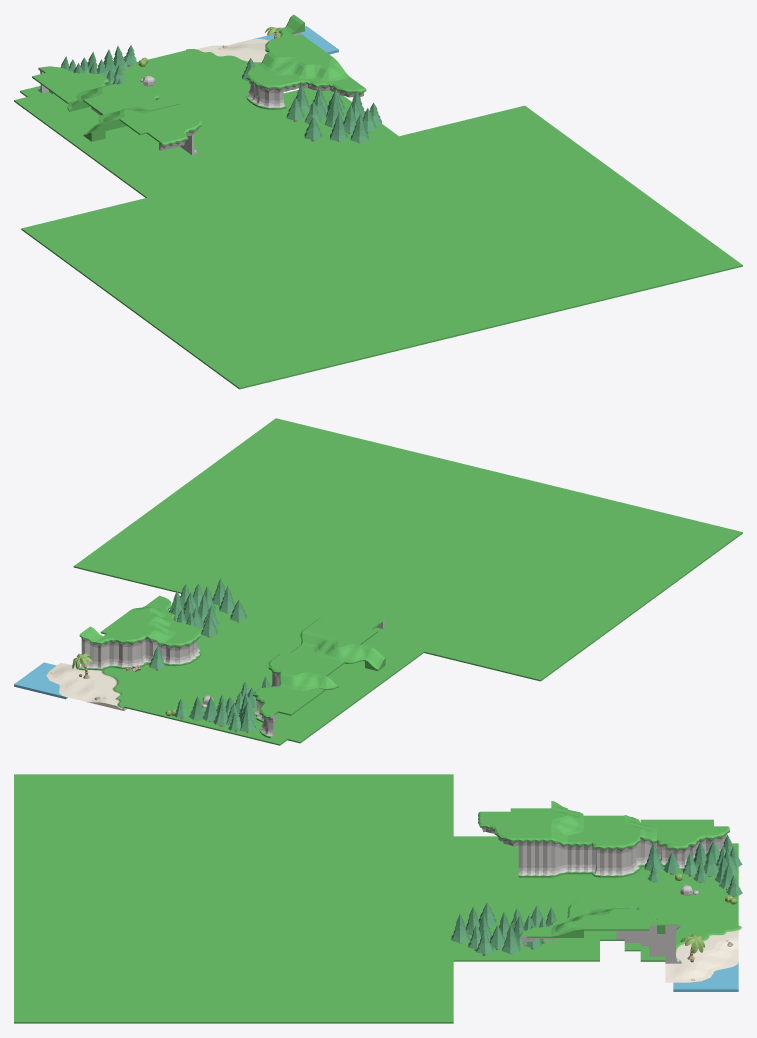
Rendered from mdl_Stage.glb.
The picture shows the model from 3 angles, top to bottom: view 1: azimuth 30°, elevation 25°; view 2: azimuth 150°, elevation 25°; view 3: azimuth 270°, elevation 25°; orthographic projection. The views are drawn at different scales.
Visible parts, largest first — view 1: object1.668; view 2: no part large enough to name; view 3: object1.663, object1.667, object1.668, object1.061, object1.651, object1.609, object1.610, object1.062, object1.028, object1.540.
Boxes of the visible parts, x1,y1,x2,y2 form: object1.668: (119, 112, 167, 135); object1.663: (584, 815, 624, 829); object1.667: (510, 822, 551, 835); object1.668: (510, 808, 551, 821); object1.061: (665, 958, 689, 982); object1.651: (665, 819, 689, 840); object1.609: (584, 915, 616, 930); object1.610: (616, 915, 648, 930); object1.062: (689, 948, 738, 961); object1.028: (689, 958, 738, 972); object1.540: (551, 922, 583, 937).
Size of the model in its own units: 72 by 6.34 by 89.55.
